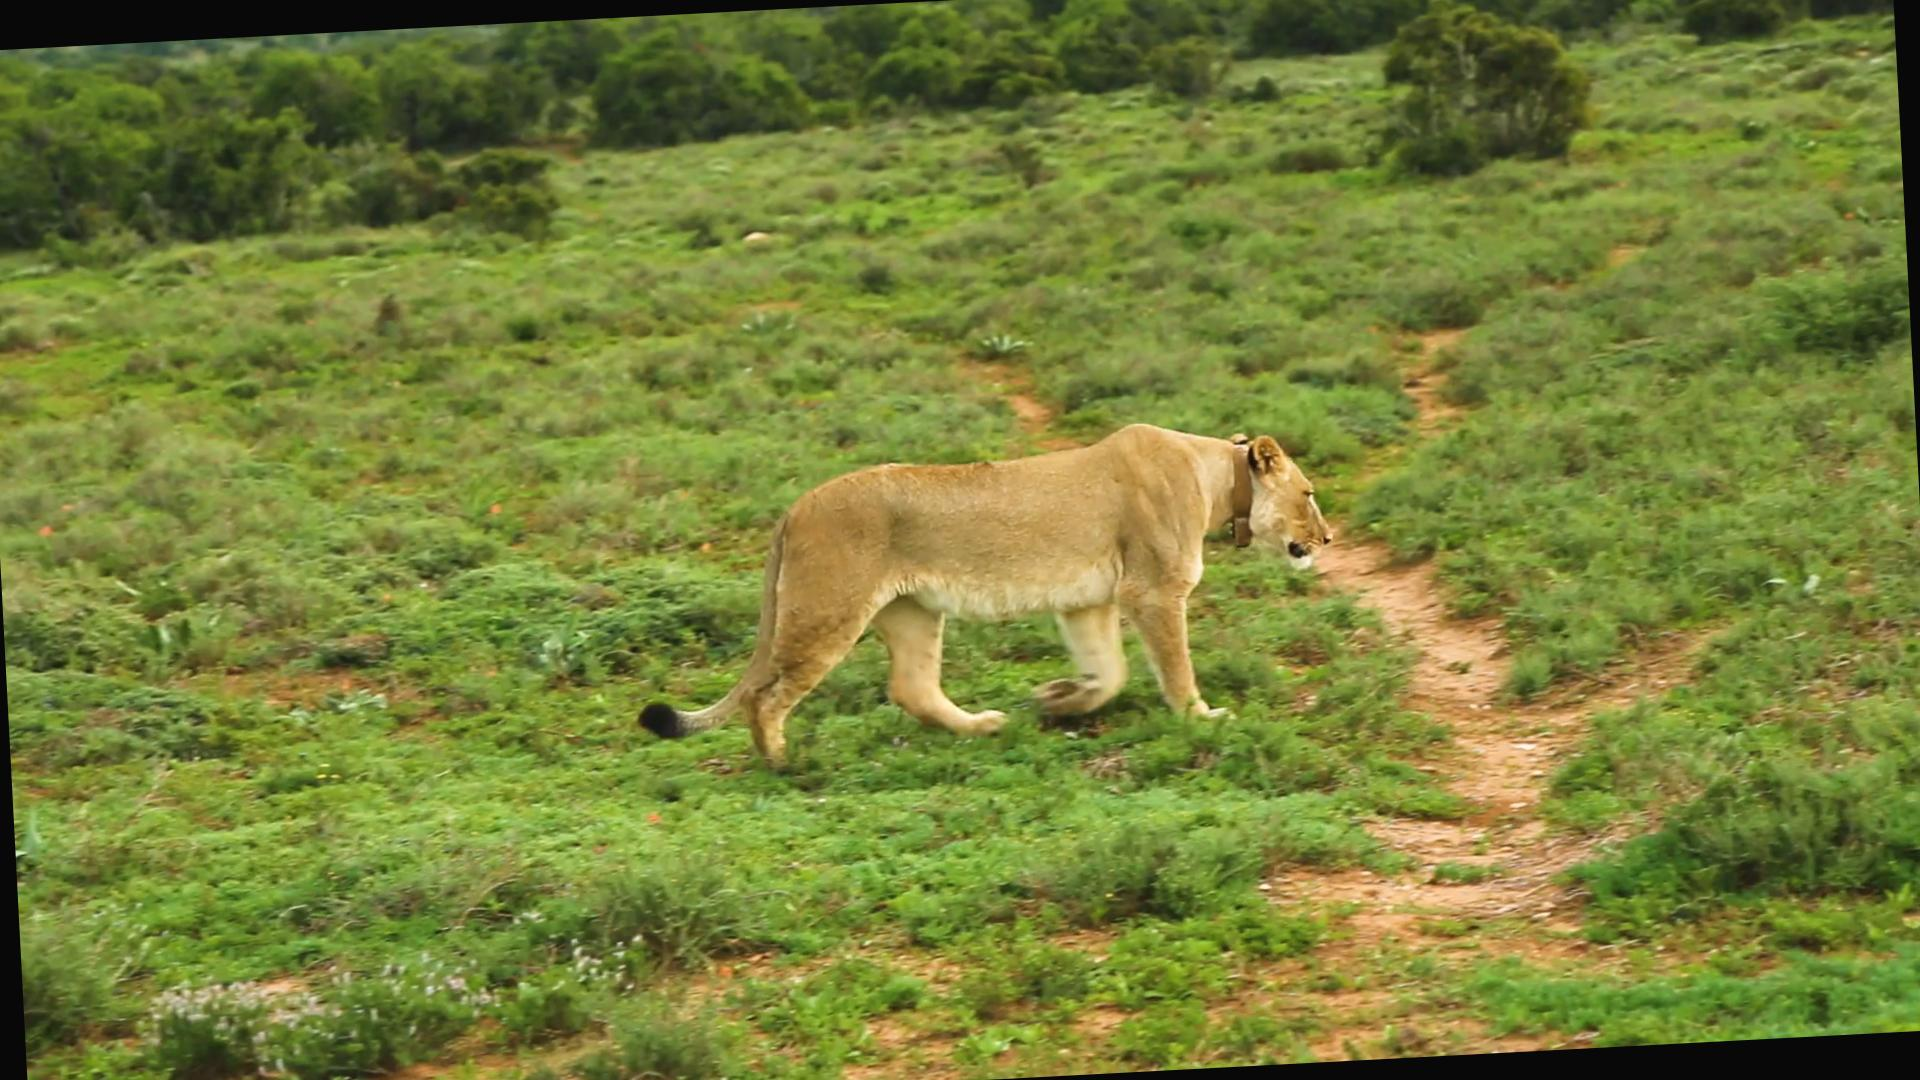lions: (591, 398, 1357, 785)
